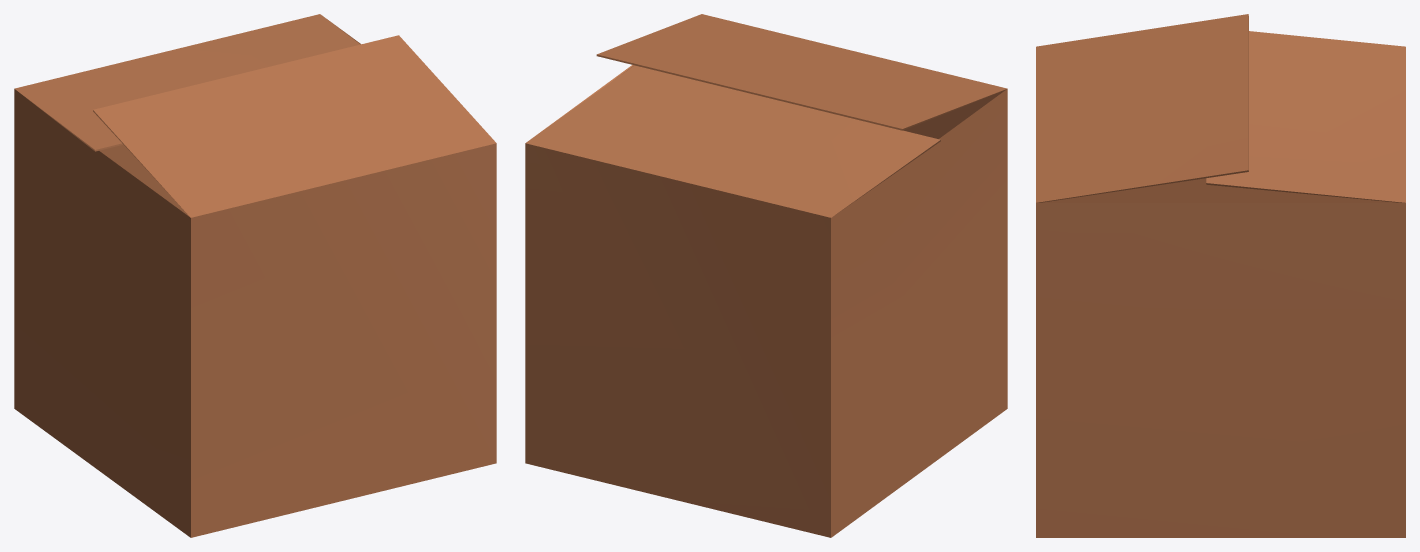
The model's file is garbageBox.fbx.
The picture shows the model from 3 angles, left to right: view 1: azimuth 30°, elevation 25°; view 2: azimuth 150°, elevation 25°; view 3: azimuth 270°, elevation 25°; orthographic projection. The views are drawn at different scales.
Parts seen in each view (by area): view 1: box; view 2: box; view 3: box.
Boxes of the visible parts, bbox=[...] form: box: bbox=[14, 14, 496, 537]; box: bbox=[525, 14, 1007, 537]; box: bbox=[1036, 14, 1405, 537].
Bounding box in the file's own units: 212 × 221 × 200.
1 material, 1 textured.
